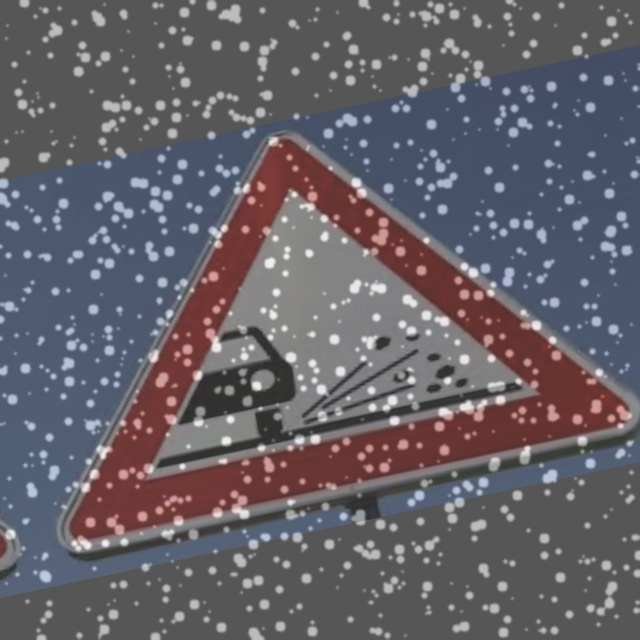Loose_Gravel: (38, 99, 615, 545)
